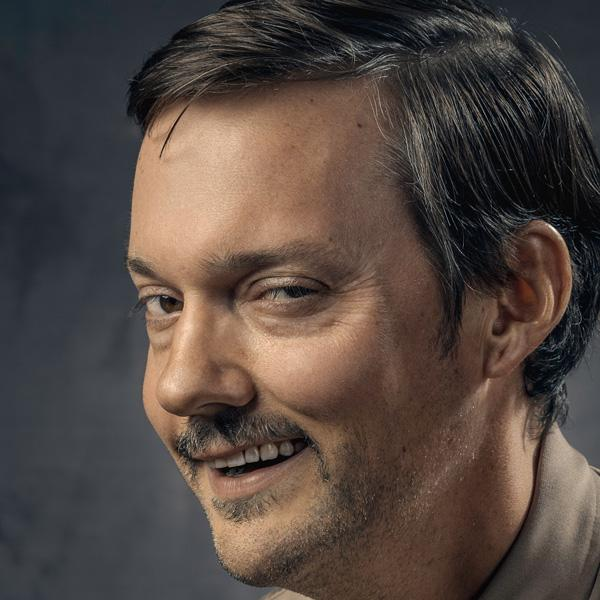Eyes: (234, 267, 336, 322), (126, 275, 193, 337)
